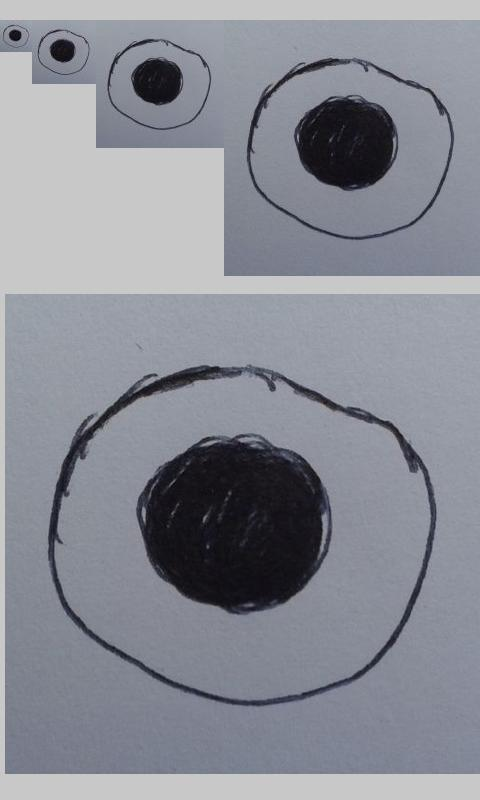radio_button: (47, 362, 438, 709), (245, 55, 457, 241), (106, 37, 212, 131), (37, 28, 91, 76), (2, 23, 30, 48)
